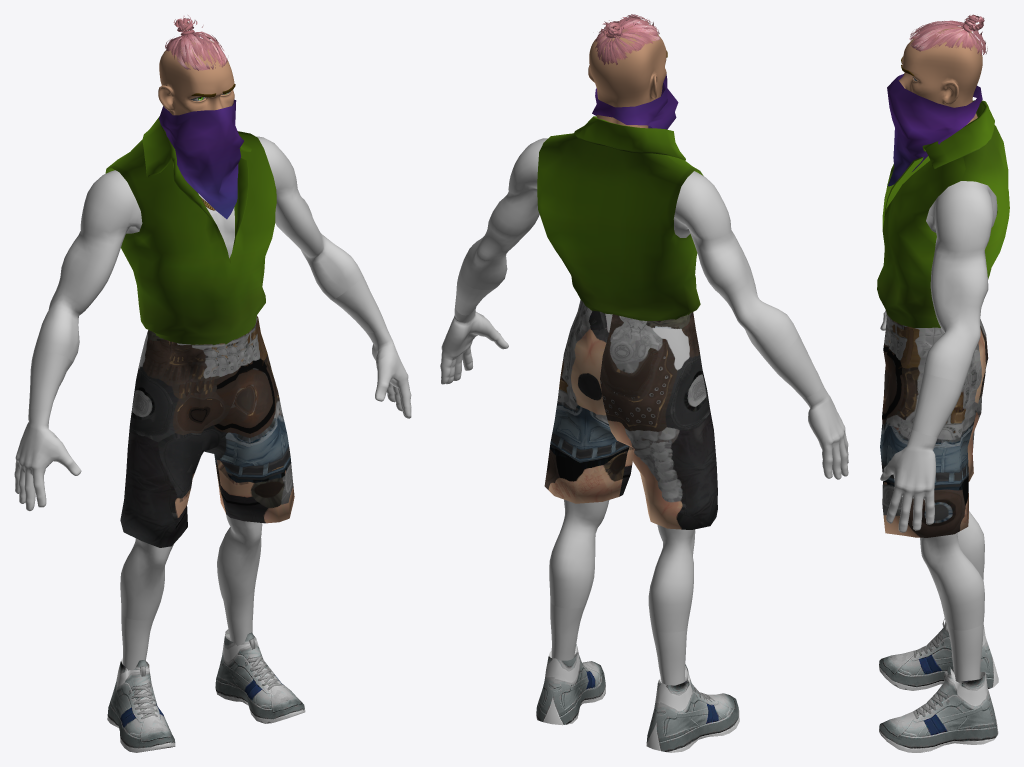
The model's file is M Character 8.fbx.
3 renders of one model, left to right at view 1: azimuth 30°, elevation 25°; view 2: azimuth 150°, elevation 25°; view 3: azimuth 270°, elevation 25°, orthographic. The views are drawn at different scales.
Parts seen in each view (by area): view 1: M_shorts 1, M_shirt 2, m_body.002, m_shoes 5, m_legs.001, M_mask, m_body.001, m_head, m_body.003, m_legs, M_hair 6; view 2: M_shorts 1, M_shirt 2, m_body.002, m_legs.001, m_shoes 5, m_body.001, m_head, m_legs, m_body.003, M_hair 6, M_mask; view 3: M_shirt 2, M_shorts 1, m_body.002, m_shoes 5, m_legs.001, M_mask, m_head, m_body.001, m_body.003, M_hair 6, m_legs.
Boxes of the visible parts, bbox=[...] form: M_shorts 1: bbox=[120, 316, 294, 547]; M_shirt 2: bbox=[105, 116, 276, 344]; m_body.002: bbox=[34, 136, 362, 361]; m_shoes 5: bbox=[107, 629, 305, 752]; m_legs.001: bbox=[120, 514, 262, 620]; M_mask: bbox=[159, 99, 243, 219]; m_body.001: bbox=[14, 324, 411, 511]; m_head: bbox=[158, 39, 235, 115]; m_body.003: bbox=[29, 275, 385, 411]; m_legs: bbox=[121, 589, 254, 670]; M_hair 6: bbox=[165, 15, 227, 70]; M_shorts 1: bbox=[544, 300, 717, 529]; M_shirt 2: bbox=[537, 116, 703, 320]; m_body.002: bbox=[460, 138, 798, 360]; m_legs.001: bbox=[549, 499, 695, 632]; m_shoes 5: bbox=[536, 644, 739, 752]; m_body.001: bbox=[440, 305, 848, 479]; m_head: bbox=[588, 26, 667, 128]; m_legs: bbox=[550, 602, 687, 685]; m_body.003: bbox=[455, 267, 821, 398]; M_hair 6: bbox=[595, 14, 660, 65]; M_mask: bbox=[592, 74, 678, 129]; M_shirt 2: bbox=[877, 100, 1009, 327]; M_shorts 1: bbox=[880, 312, 988, 537]; m_body.002: bbox=[923, 181, 997, 385]; m_shoes 5: bbox=[879, 618, 998, 752]; m_legs.001: bbox=[920, 511, 984, 630]; M_mask: bbox=[887, 74, 982, 186]; m_head: bbox=[899, 26, 982, 124]; m_body.001: bbox=[880, 310, 937, 532]; m_body.003: bbox=[911, 372, 963, 437]; M_hair 6: bbox=[909, 14, 987, 55]; m_legs: bbox=[947, 574, 983, 682].
Size of the model in its own units: 117 by 202 by 34.77.
